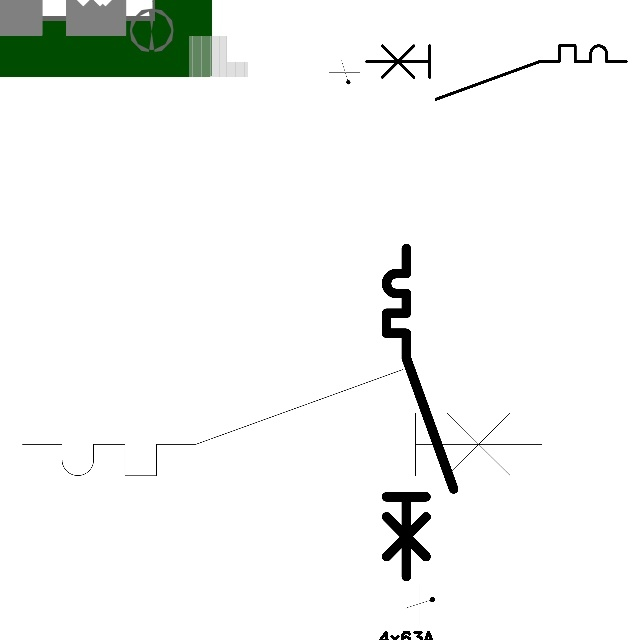interruptor_termomagnetico: (9, 356, 554, 489), (378, 240, 462, 584), (359, 39, 632, 106)
